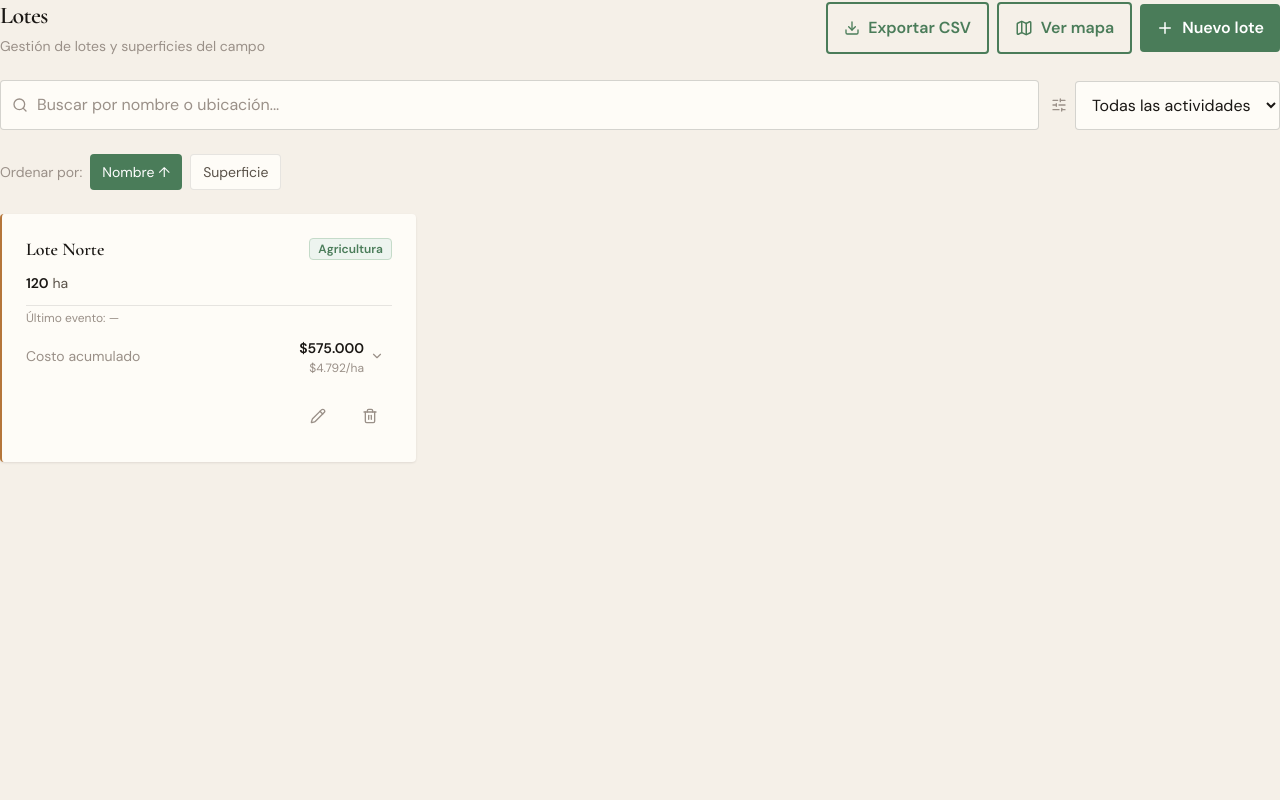
Scenario: LotesPage › shows confirm dialog when clicking delete button
The width and height of the screenshot is (1280, 800).
Click the button named "Eliminar Lote Norte": [370, 416] box [348,394,392,438]
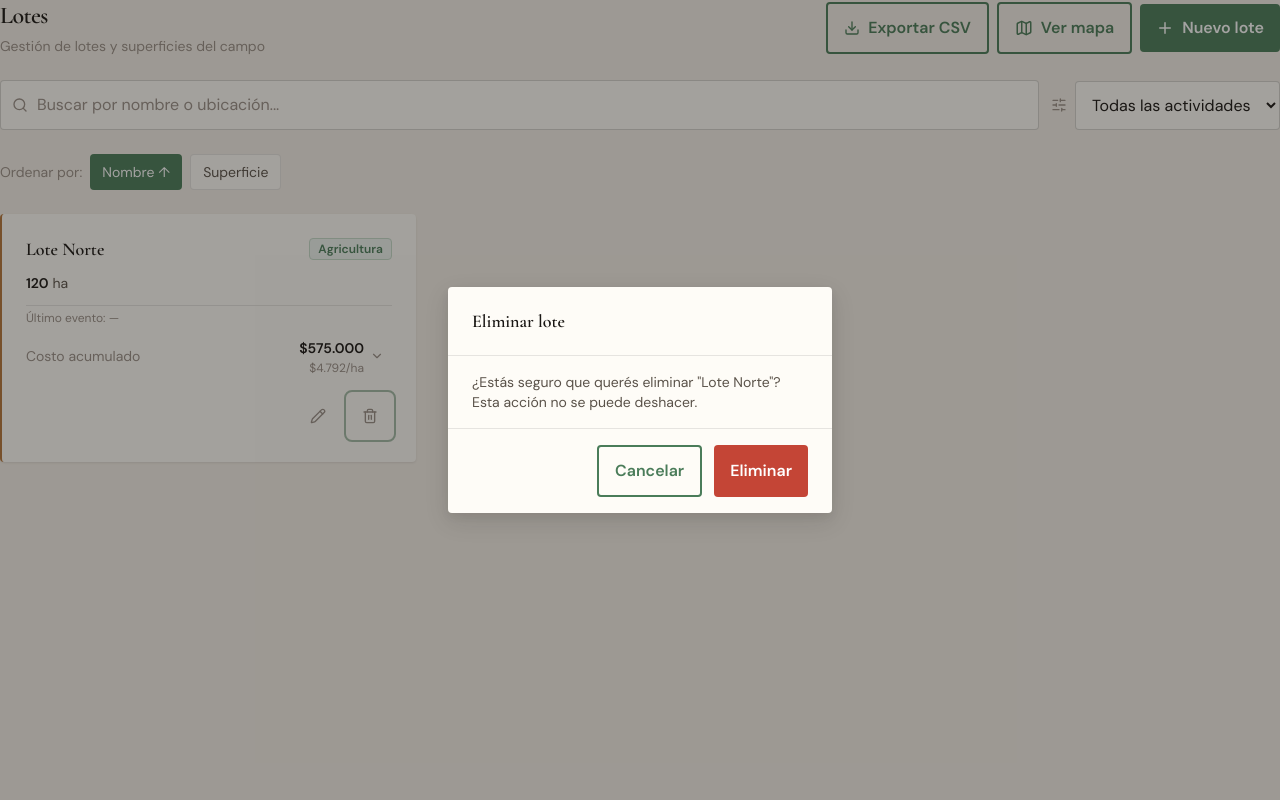
Expected: the heading "Eliminar lote" is shown, [472,310,565,332]
